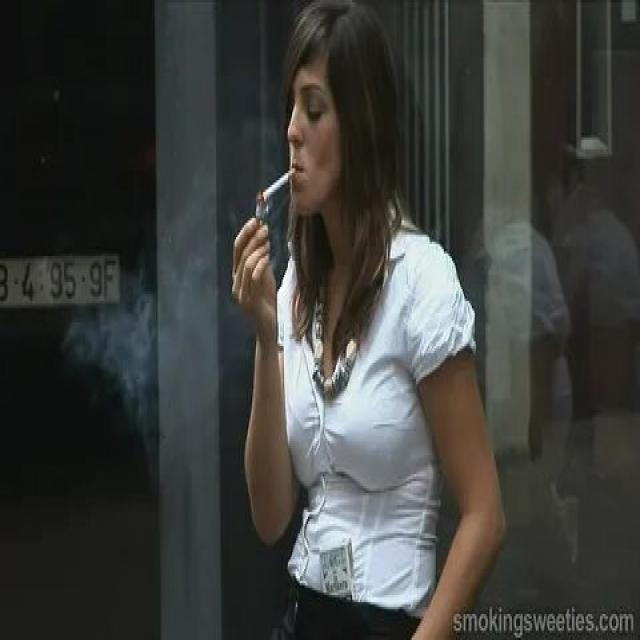cigarette: (258, 166, 298, 201)
